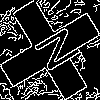N: (25, 25, 82, 79)
